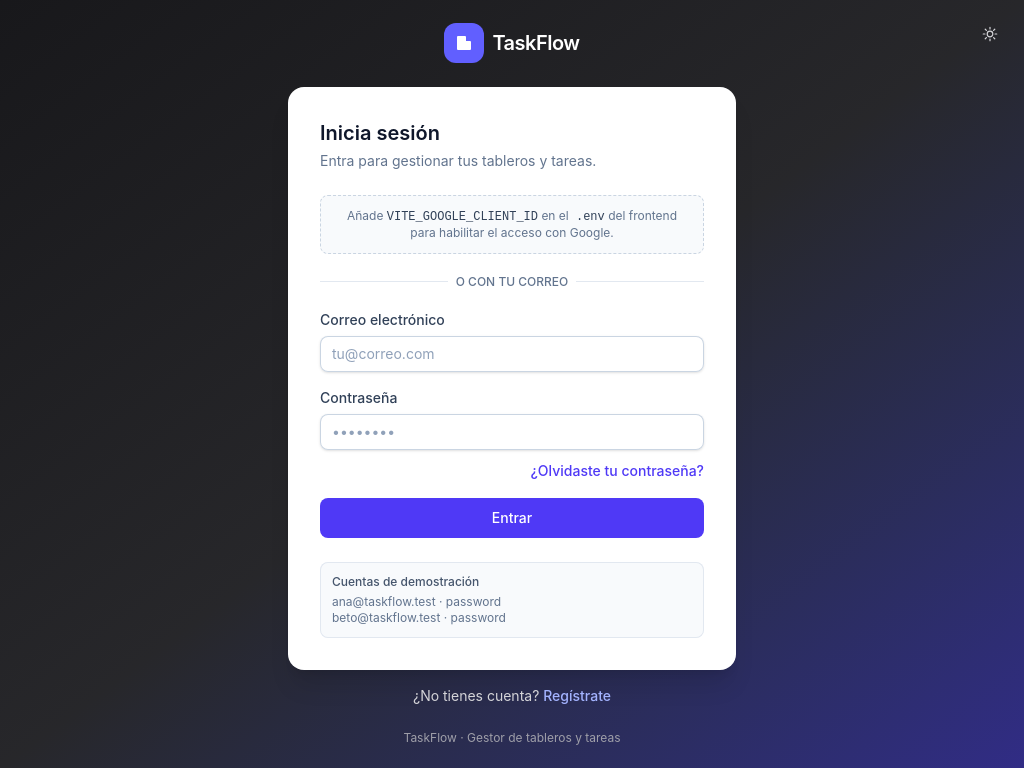
LoginPage › shows validation errors per field
In the field labelled "Correo electrónico": [512, 354] box [320,336,704,372], type "ana@taskflow.test"
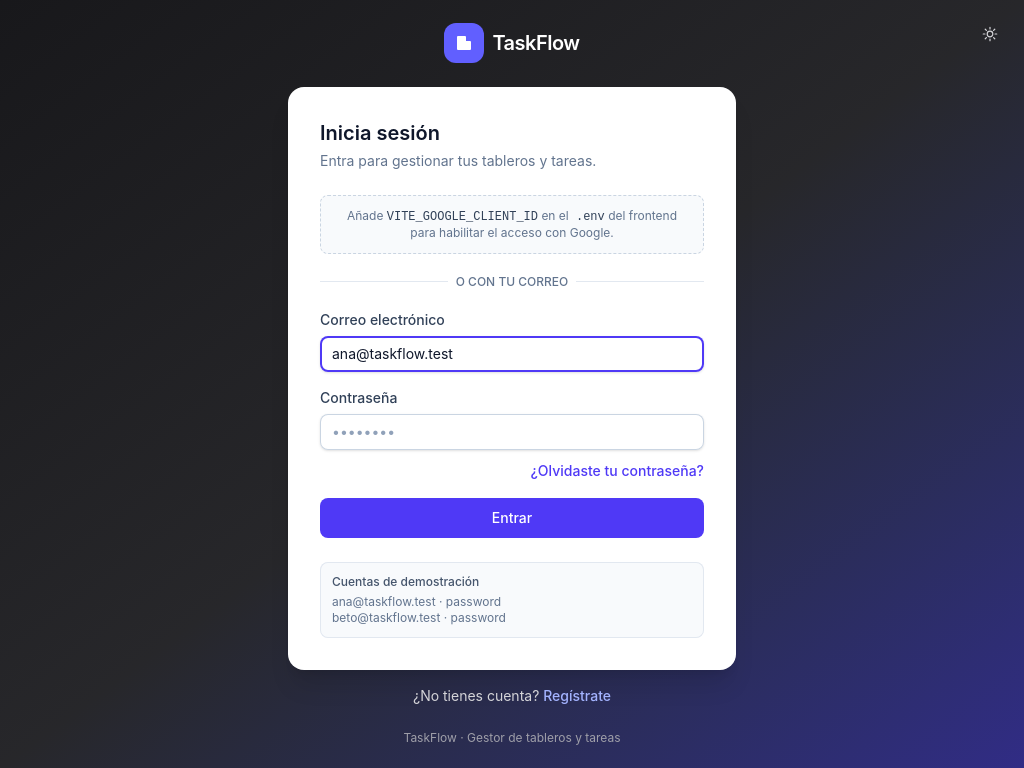
In the password field labelled "Contraseña": [512, 432] box [320,414,704,450], type "password"
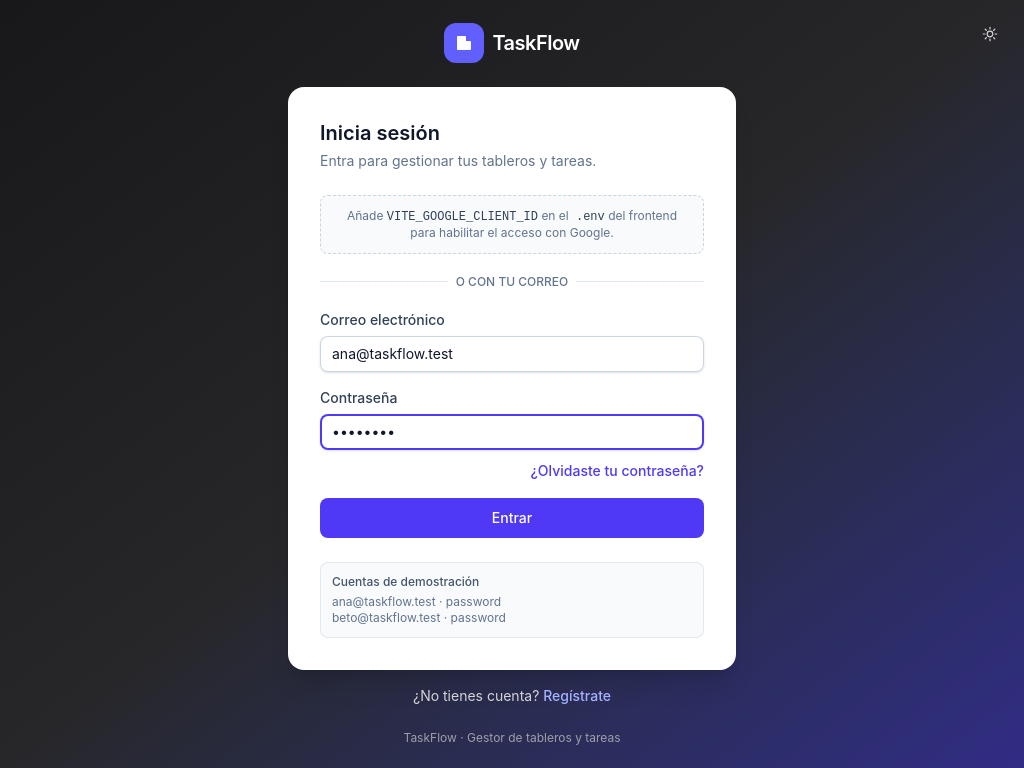
Click the button "Entrar": [512, 518] box [320,498,704,538]
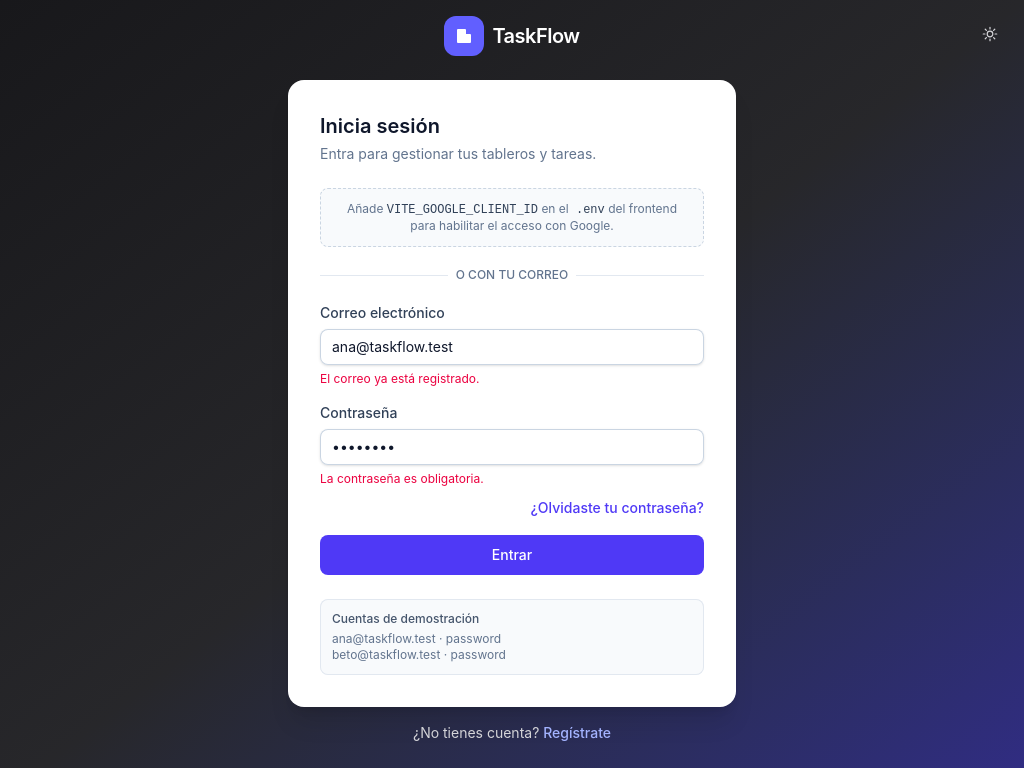
Expected: the text "El correo ya está registrado." is shown, [320,371,480,386]
Expected: the text "La contraseña es obligatoria." is shown, [320,471,484,486]
